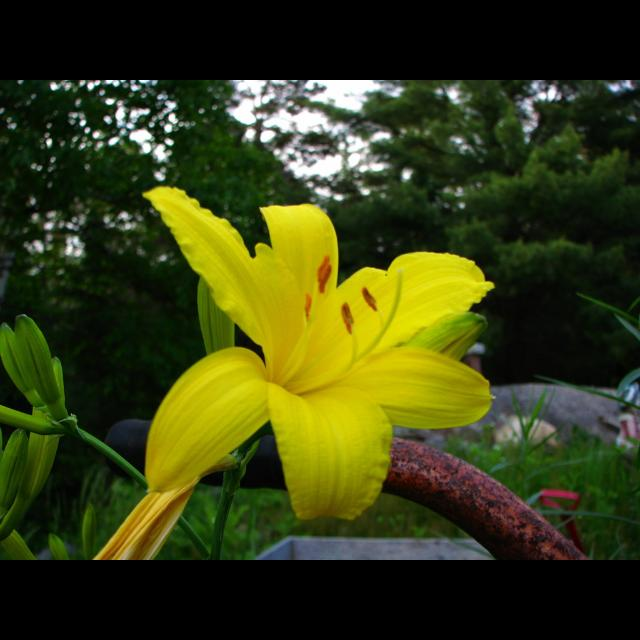Flower: (132, 167, 500, 526)
